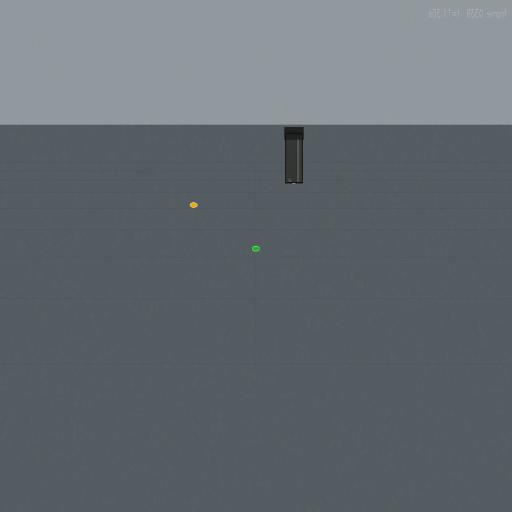bin: (284, 127, 304, 184)
